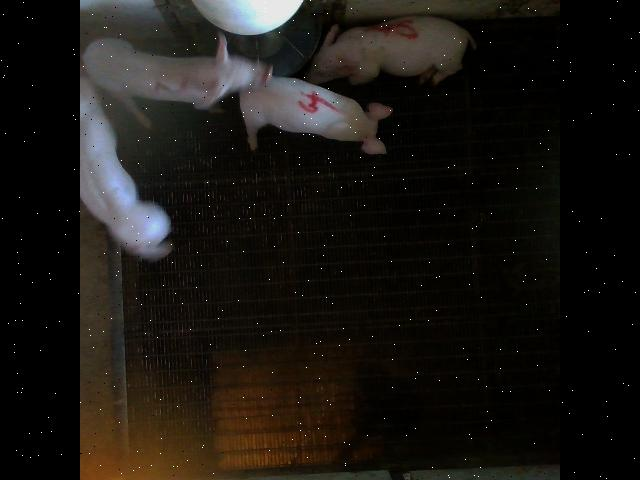pig-2: (83, 34, 272, 109)
pig-4: (239, 75, 392, 154)
pig-5: (305, 16, 476, 84)
